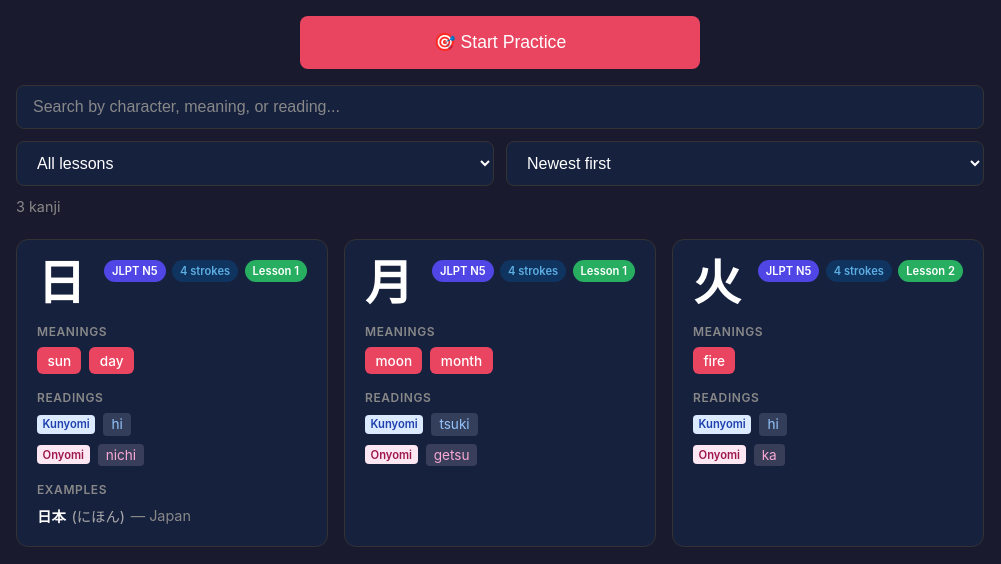
Test: KanjiList › Search and filtering › should filter kanji by reading
Expected: the text "日" is shown, x1=37 y1=257 x2=85 y2=310
In the field named "Search kanji": (500, 107) x1=16 y1=85 x2=984 y2=129, type "getsu"
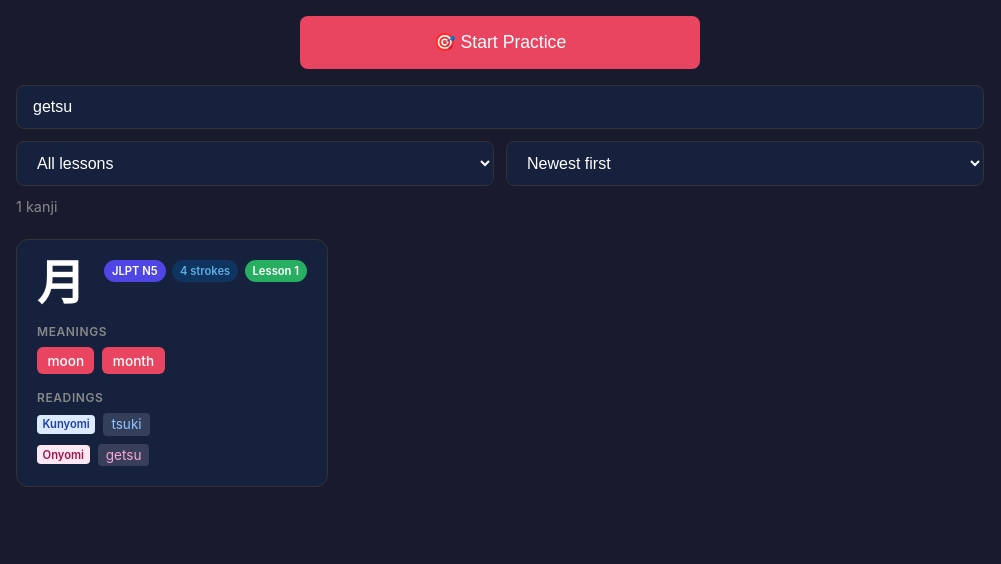
Expected: the text "月" is shown, x1=37 y1=257 x2=85 y2=310
Result: the text "日" is gone
Result: the text "火" is gone
